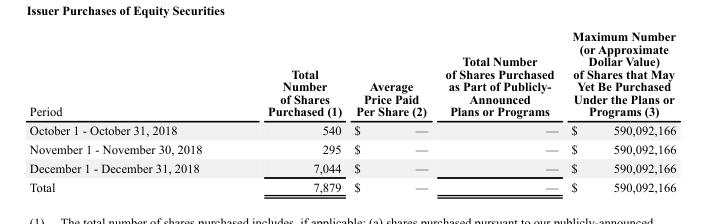table: (28, 28, 675, 193)
table column: (28, 28, 234, 193), (435, 28, 564, 193), (234, 28, 347, 193), (564, 28, 675, 193), (347, 28, 435, 193)
table column header: (28, 28, 675, 120)
table row: (28, 28, 675, 120), (28, 120, 675, 139), (28, 139, 675, 158), (28, 158, 675, 176), (28, 176, 675, 193)
